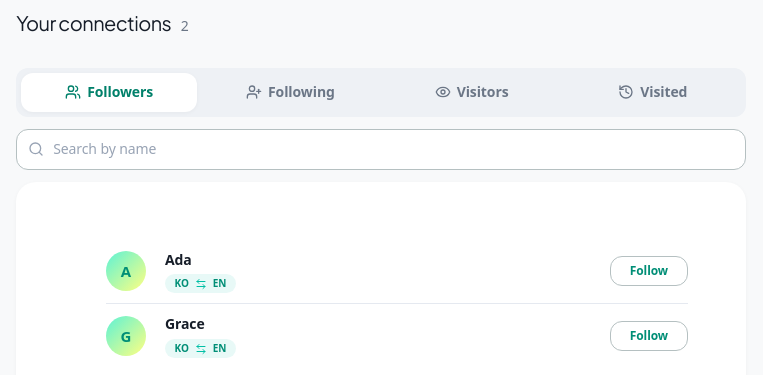
Scenario: search › filters the list by name without asking the server again
The image size is (763, 375).
Type "gra" into the search field with test id "list-search".
click(381, 149); type("gra")  # box [16, 129, 746, 170]
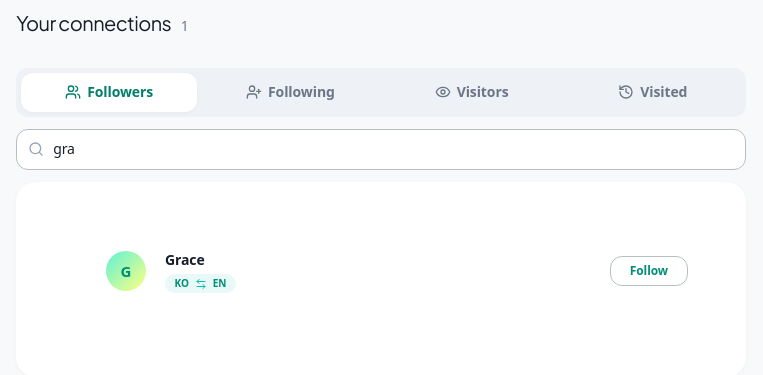
Expected: the list item with test id "list-row-u3" is shown, [106, 240, 688, 303]
Now the list item with test id "list-row-u2" is gone
